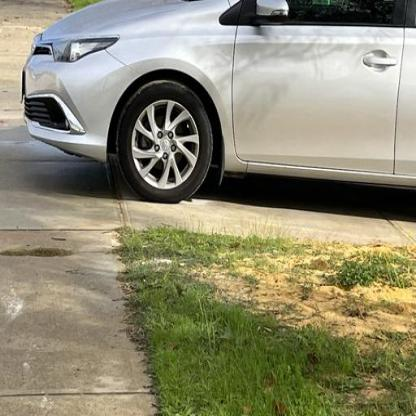Tire: (115, 79, 213, 203)
